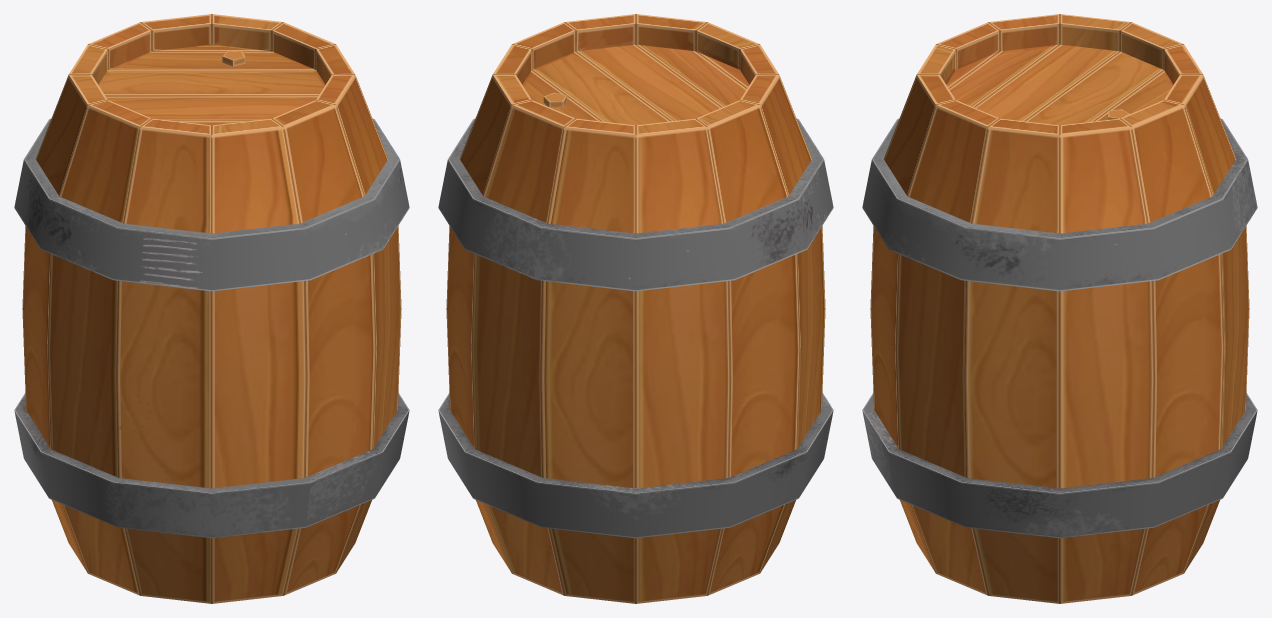
File: Barrel.fbx
3 views of the same model, side by side, from view 1: azimuth 30°, elevation 25°; view 2: azimuth 150°, elevation 25°; view 3: azimuth 270°, elevation 25° (orthographic).
Visible parts, largest first — view 1: Barrel_LOD0; view 2: Barrel_LOD0; view 3: Barrel_LOD0.
Part boxes in pixels (x1,y1,x2,y2): Barrel_LOD0: [14, 14, 409, 603]; Barrel_LOD0: [438, 14, 833, 603]; Barrel_LOD0: [862, 14, 1257, 603].
Size of what is drawn, in the model's own units: 73.57 by 96.26 by 73.57.
